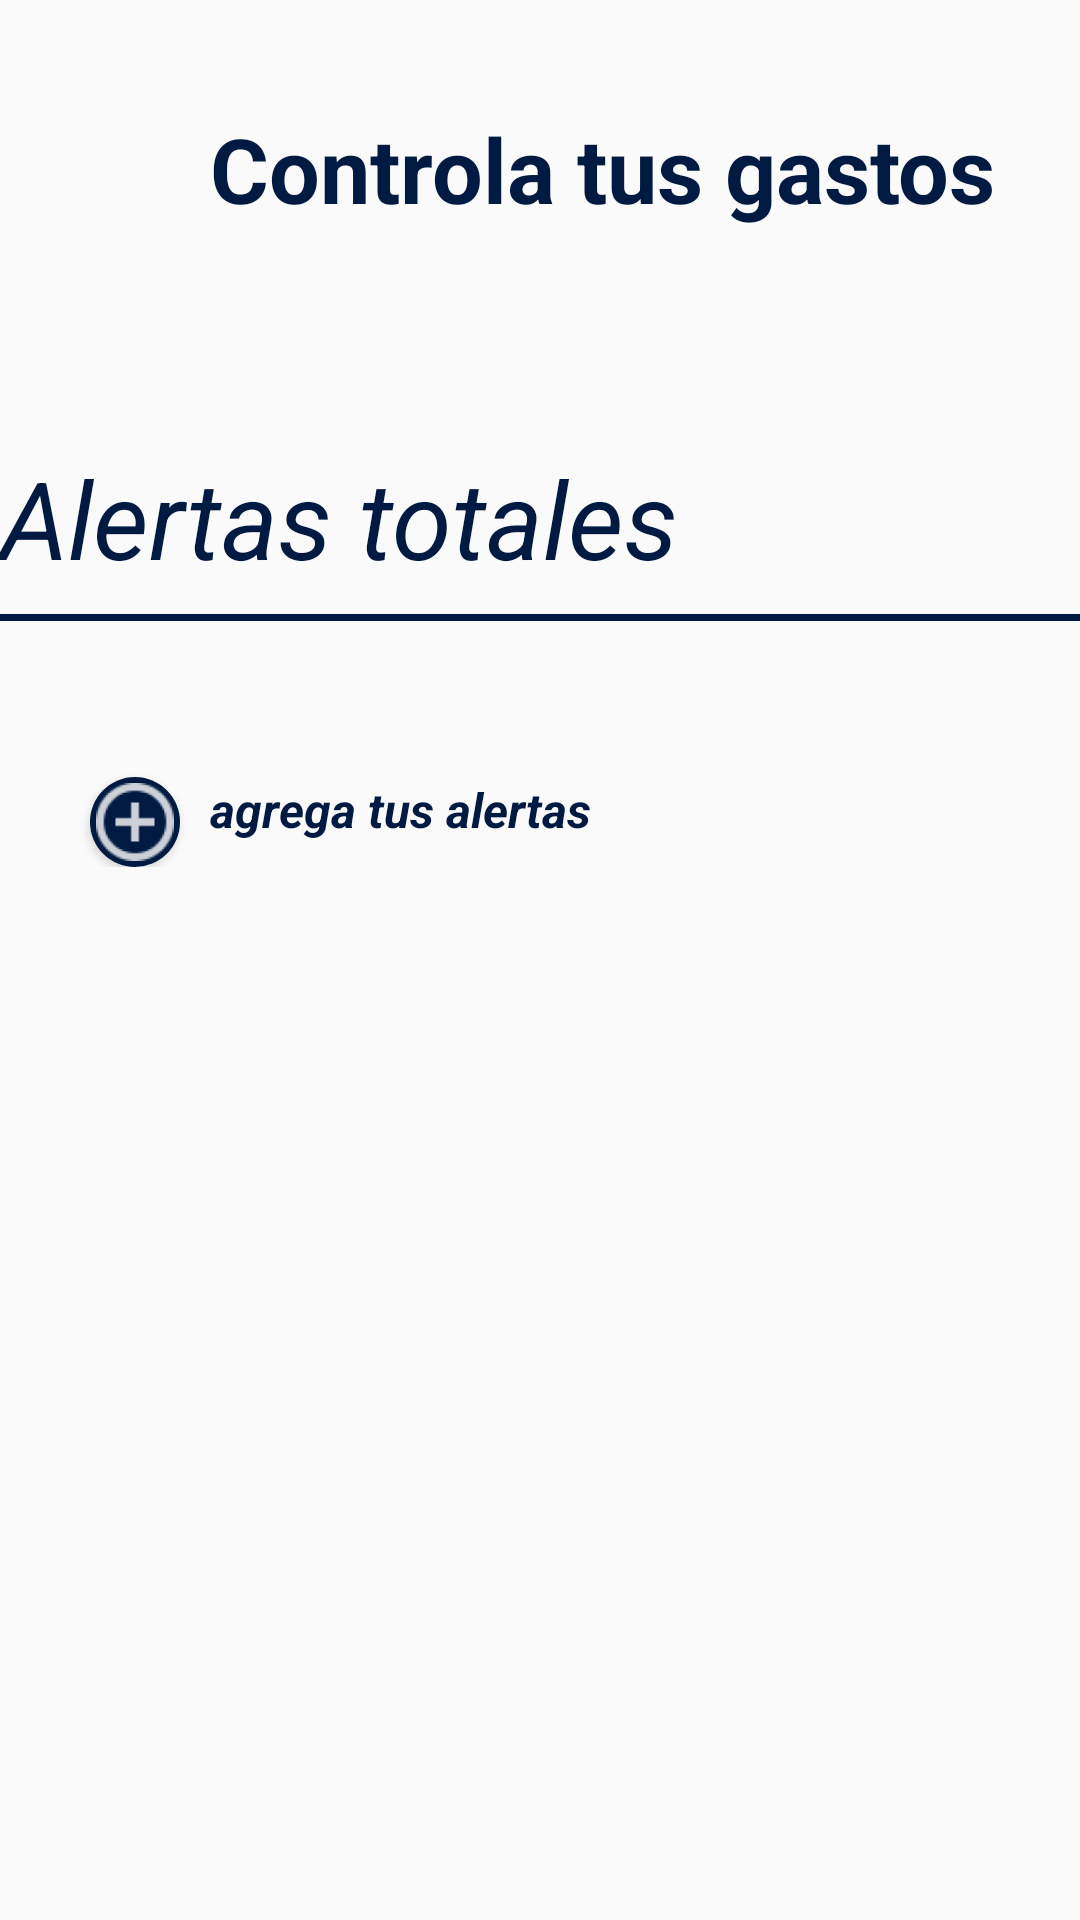

Point at icon controls on the screen. Image size 1080px×1920px, points as (x=x, y=y).
simbolo de mas: (x=135, y=822)
